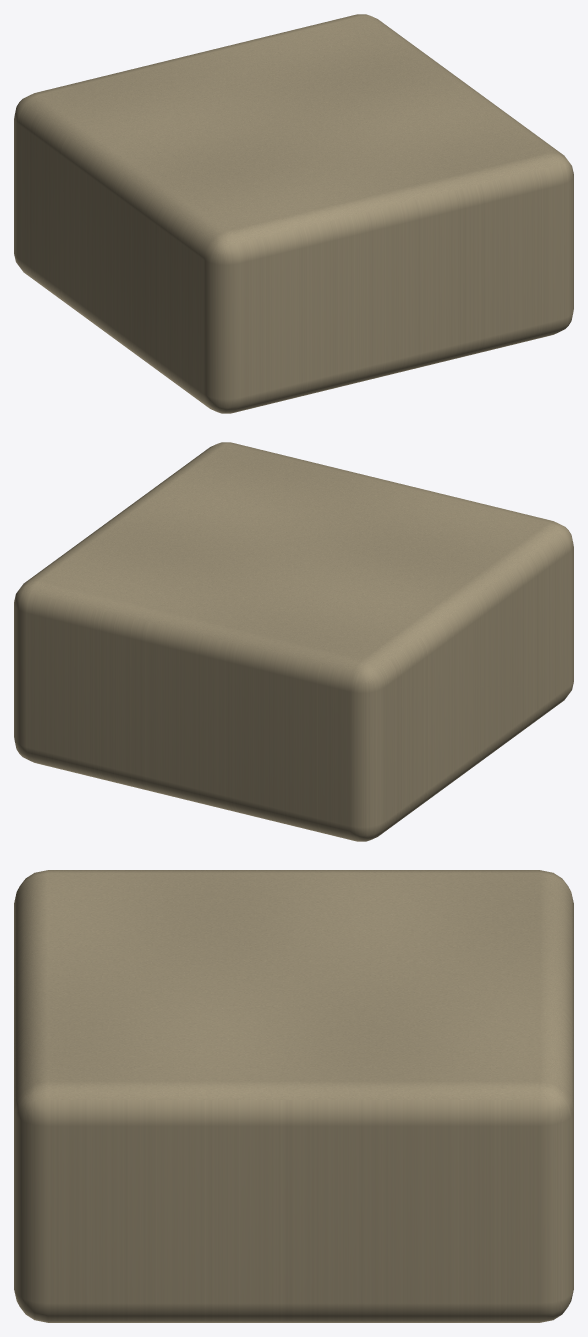
File: limestone-coping-corner.glb
3 views of the same model, one above another, from view 1: azimuth 30°, elevation 25°; view 2: azimuth 150°, elevation 25°; view 3: azimuth 270°, elevation 25° (orthographic). The views are drawn at different scales.
Visible parts, largest first — view 1: rounded-corner-stone; view 2: rounded-corner-stone; view 3: rounded-corner-stone.
Part boxes in pixels (x1,y1,x2,y2): rounded-corner-stone: [14, 14, 573, 413]; rounded-corner-stone: [14, 442, 573, 841]; rounded-corner-stone: [14, 870, 573, 1322].
Size of the model in its own units: 0.298 by 0.14 by 0.298.
Materials: 1 (1 with a texture image).
